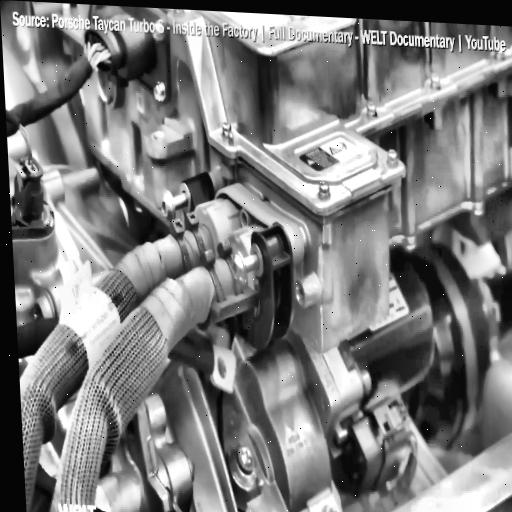high_volt_cable: (19, 172, 311, 512)
nut: (225, 245, 251, 290), (234, 438, 258, 483), (157, 191, 181, 222), (218, 116, 238, 147), (314, 177, 336, 204), (429, 69, 445, 97), (364, 97, 381, 122), (151, 81, 167, 106), (387, 146, 402, 169), (319, 501, 345, 512), (10, 196, 17, 233)
